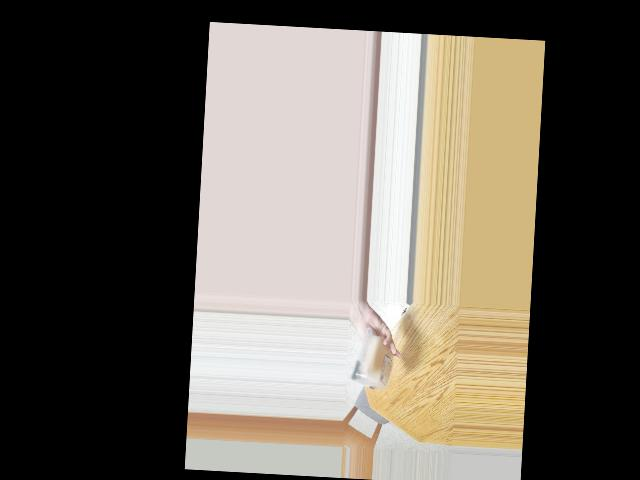cheese: (351, 332, 397, 392)
